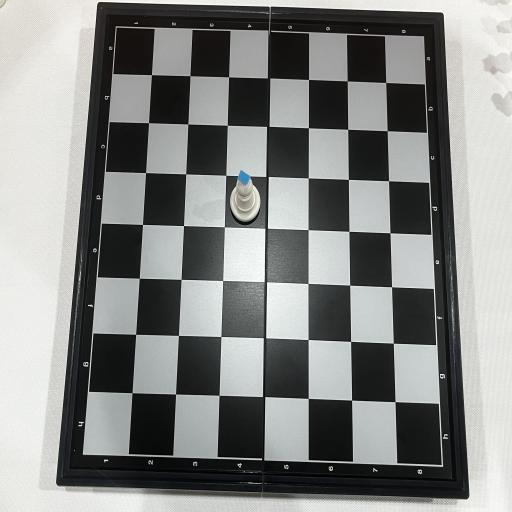White bishop: (230, 170, 260, 222)
